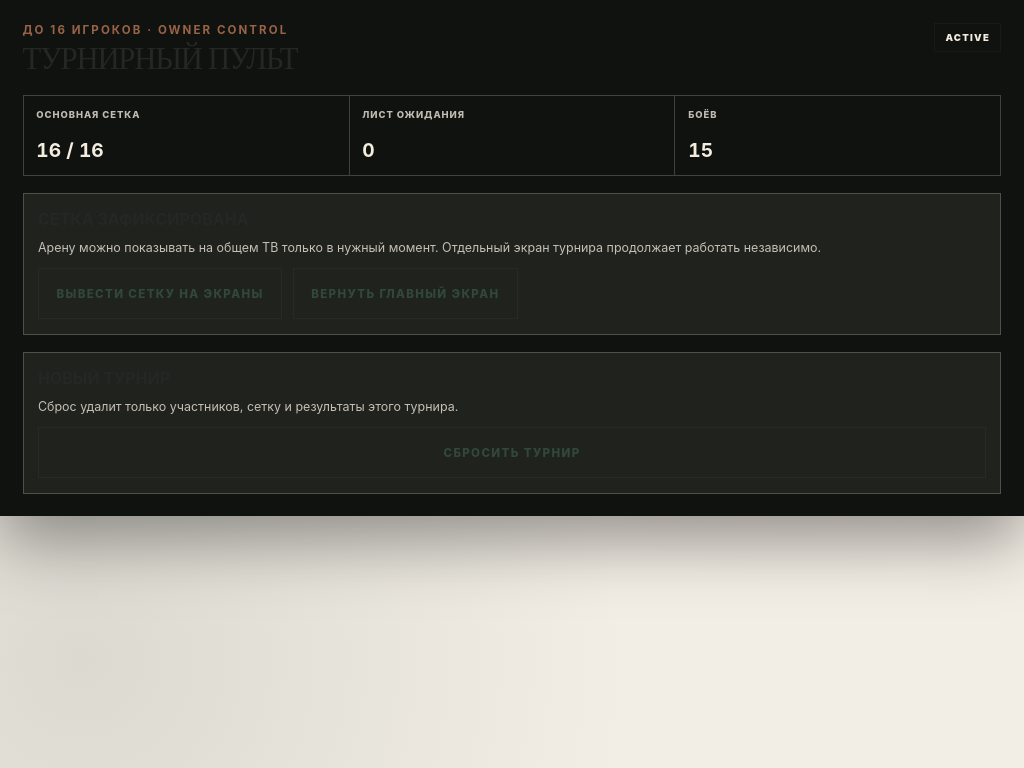
it: AdminMkControl › requires the exact phrase before resetting only the tournament runtime after start
Later steps or results of the test are not shown.
Click the button "СБРОСИТЬ ТУРНИР". click: coordinates (512, 453)
box: x1=38 y1=427 x2=986 y2=478
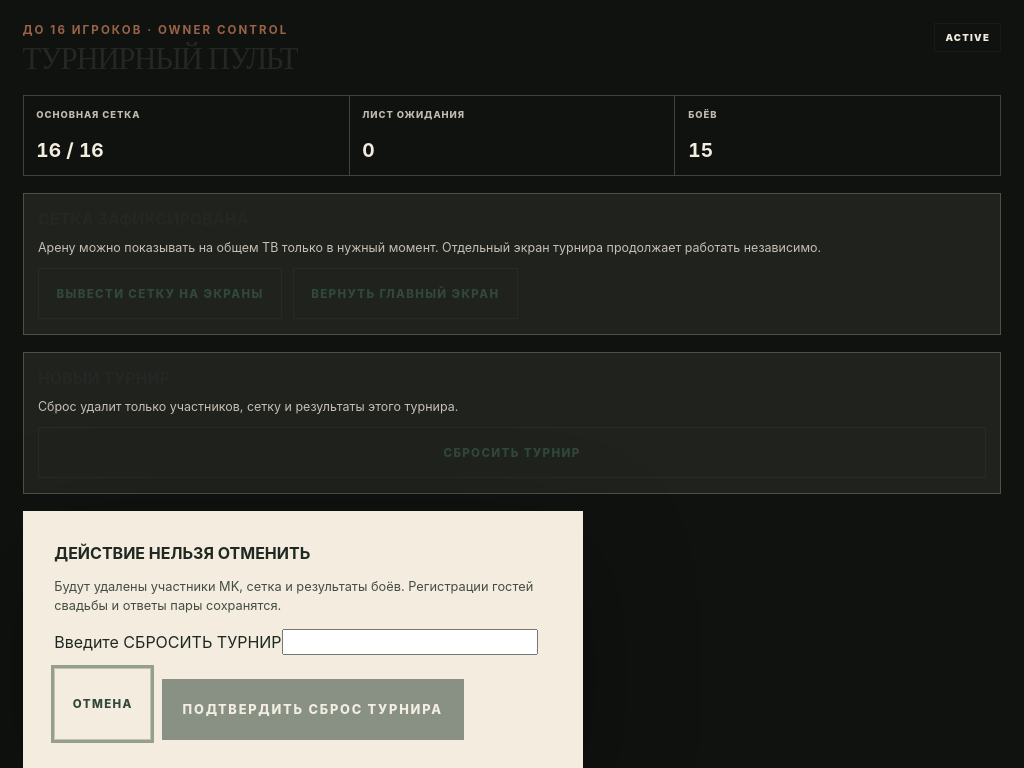
Expected: the text "Регистрации гостей свадьбы и ответы пары сохранятся" is shown, x1=54 y1=579 x2=533 y2=613
Expected: the button "ПОДТВЕРДИТЬ СБРОС ТУРНИРА" is disabled, x1=162 y1=680 x2=464 y2=740
Type "СБРОСИТЬ ТУРНИР" into the field labelled "Введите СБРОСИТЬ ТУРНИР". click: coordinates (410, 642)
box: x1=282 y1=629 x2=538 y2=655
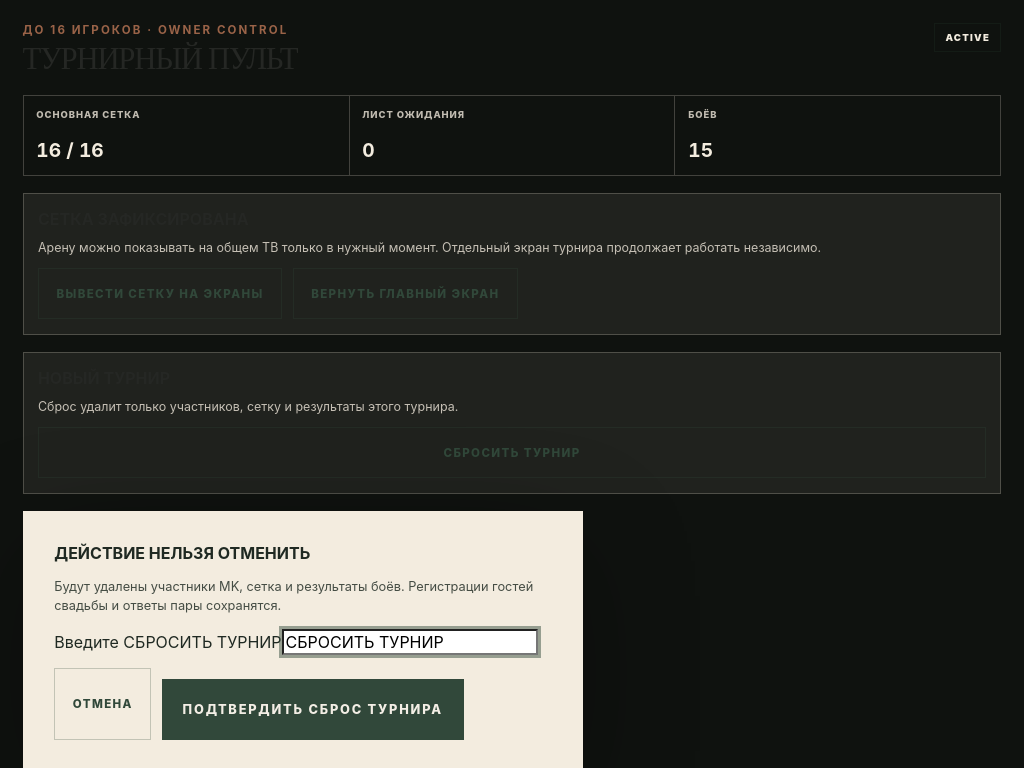
Expected: the button "ПОДТВЕРДИТЬ СБРОС ТУРНИРА" is enabled, x1=162 y1=680 x2=464 y2=740
